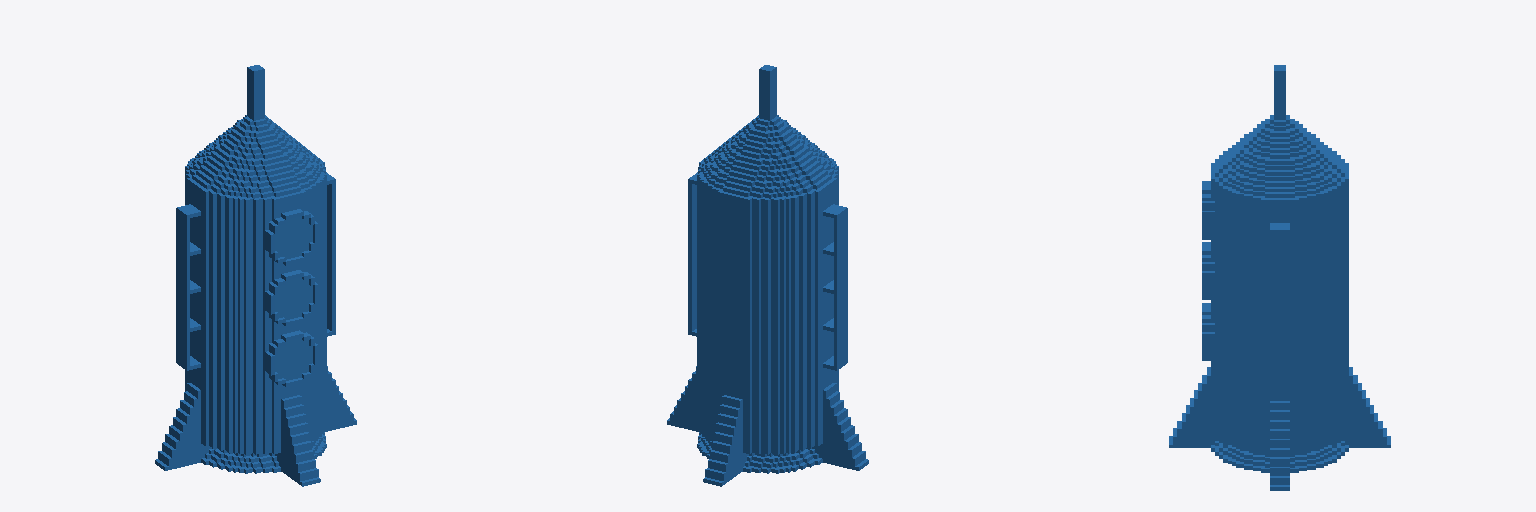
3 views of the same model, side by side, from view 1: azimuth 30°, elevation 25°; view 2: azimuth 150°, elevation 25°; view 3: azimuth 270°, elevation 25° (orthographic).
Visible parts, largest first — view 1: object 1; view 2: object 1; view 3: object 1.
Part boxes in pixels (left/top/right/bottom): object 1: left=155, top=65, right=356, bottom=486; object 1: left=667, top=65, right=868, bottom=486; object 1: left=1169, top=65, right=1390, bottom=490.
Bounding box in the file's own units: 5.3 × 9.9 × 5.3.
Materials: 1 (1 with a texture image).